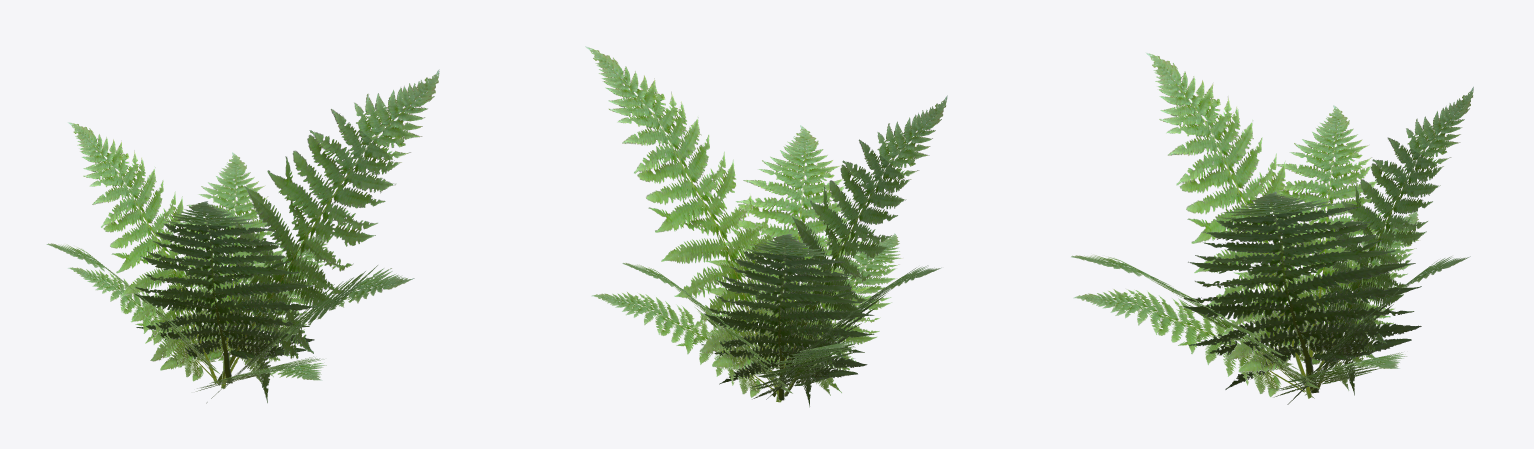
The model's file is Fern1.fbx.
3 renders of one model, left to right at view 1: azimuth 30°, elevation 25°; view 2: azimuth 150°, elevation 25°; view 3: azimuth 270°, elevation 25°, orthographic. The views are drawn at different scales.
Parts seen in each view (by area): view 1: Fern1; view 2: Fern1; view 3: Fern1.
Part boxes in pixels (left/top/right/bottom): Fern1: left=46, top=69, right=439, bottom=403; Fern1: left=585, top=46, right=947, bottom=407; Fern1: left=1071, top=52, right=1473, bottom=404.
Bounding box in the file's own units: 137 × 104 × 137.
